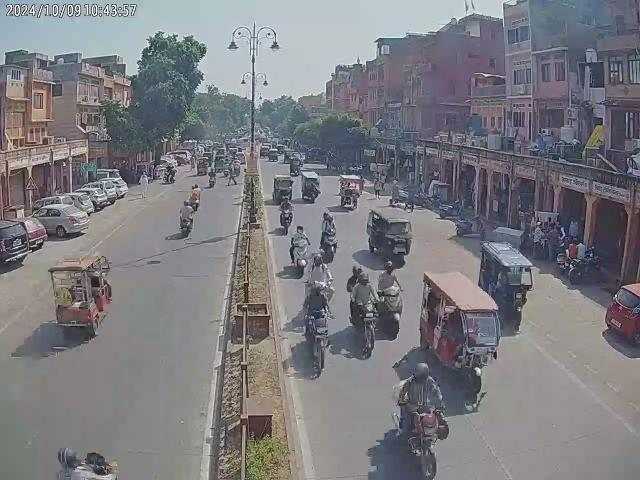auto: (421, 269, 504, 395), (48, 254, 112, 340), (477, 240, 535, 332), (365, 208, 413, 259), (300, 168, 321, 203), (272, 174, 294, 202), (288, 152, 303, 176)
car: (29, 198, 91, 240), (606, 279, 640, 347), (79, 177, 128, 203)
helmet: (57, 447, 78, 467), (413, 362, 432, 384), (359, 273, 371, 286), (314, 254, 322, 268), (312, 284, 322, 294), (352, 267, 362, 276), (296, 224, 304, 234), (183, 200, 190, 206)
motorbike: (566, 254, 602, 283)
motorbike-rider: (392, 360, 448, 478), (346, 266, 379, 359), (298, 282, 332, 372), (44, 446, 124, 480), (304, 252, 330, 297), (278, 196, 294, 230)
no_helmet: (384, 266, 394, 274)
person: (390, 178, 400, 206), (372, 174, 382, 198)
scooty: (455, 216, 488, 237), (439, 200, 463, 217)
scooty-rider: (376, 265, 404, 336), (320, 212, 338, 262), (290, 223, 310, 266), (178, 199, 198, 238), (189, 182, 202, 208)
vendor: (338, 174, 364, 211)
